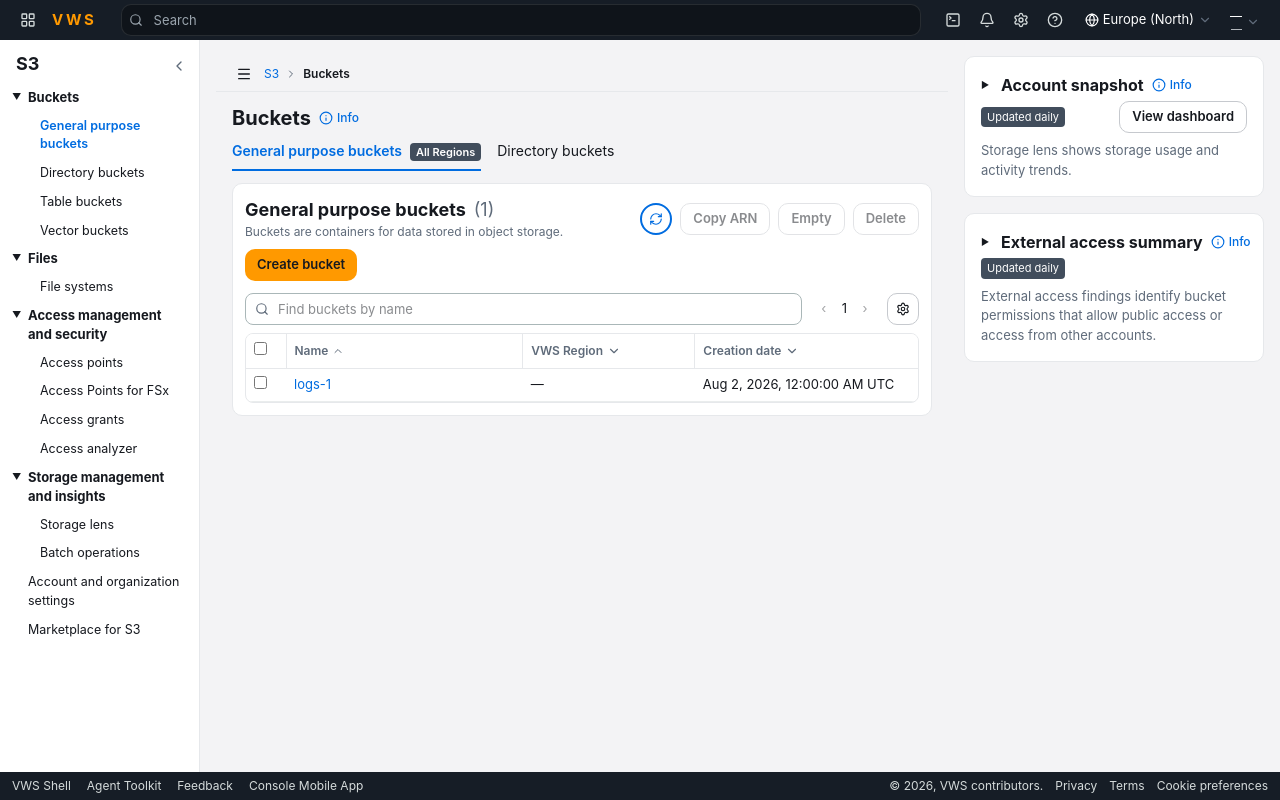
it: BucketsView › deletes the selected bucket through the server action
Click the checkbox named "Select logs-1".
click(260, 382)  # box [254,376,267,389]
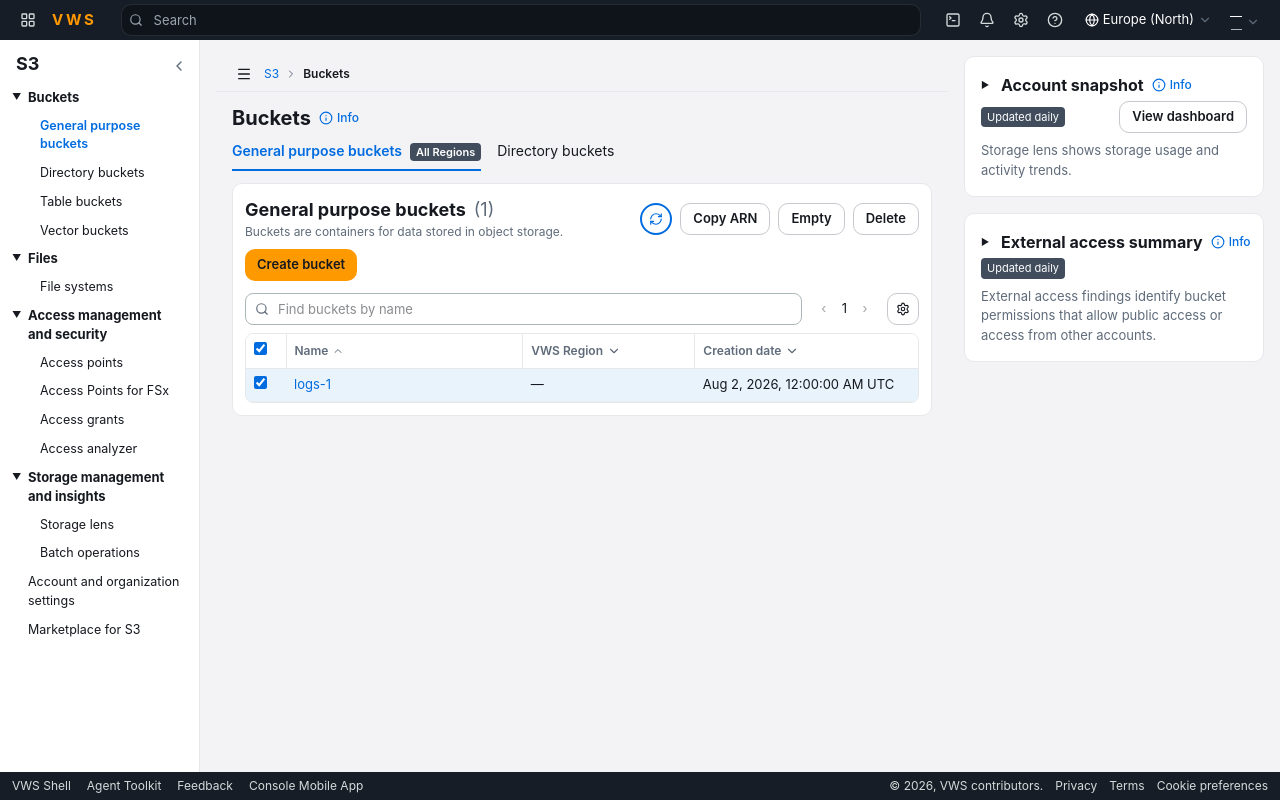
Click the button "Delete".
click(886, 218)  # box [853,202,919,234]
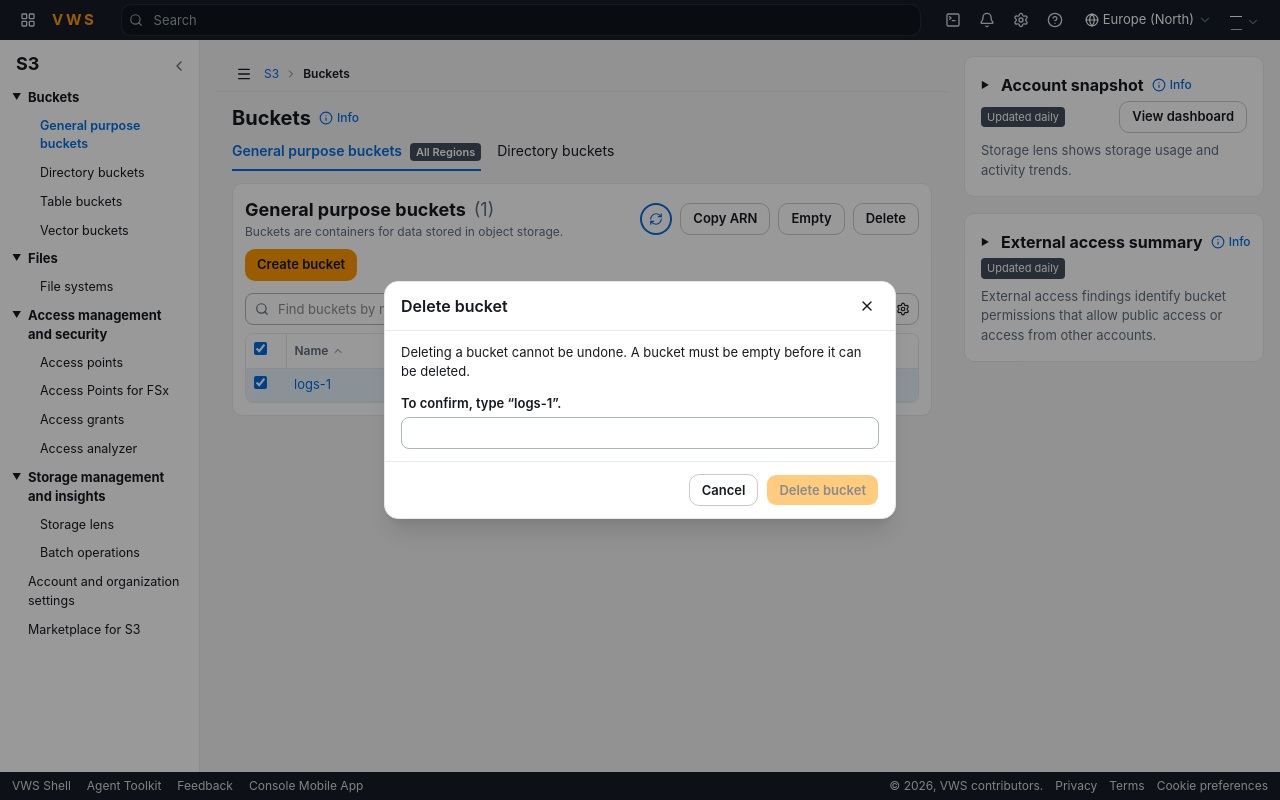
Type "logs-1" into the field.
click(640, 433); type("logs-1")  # box [401,417,879,449]
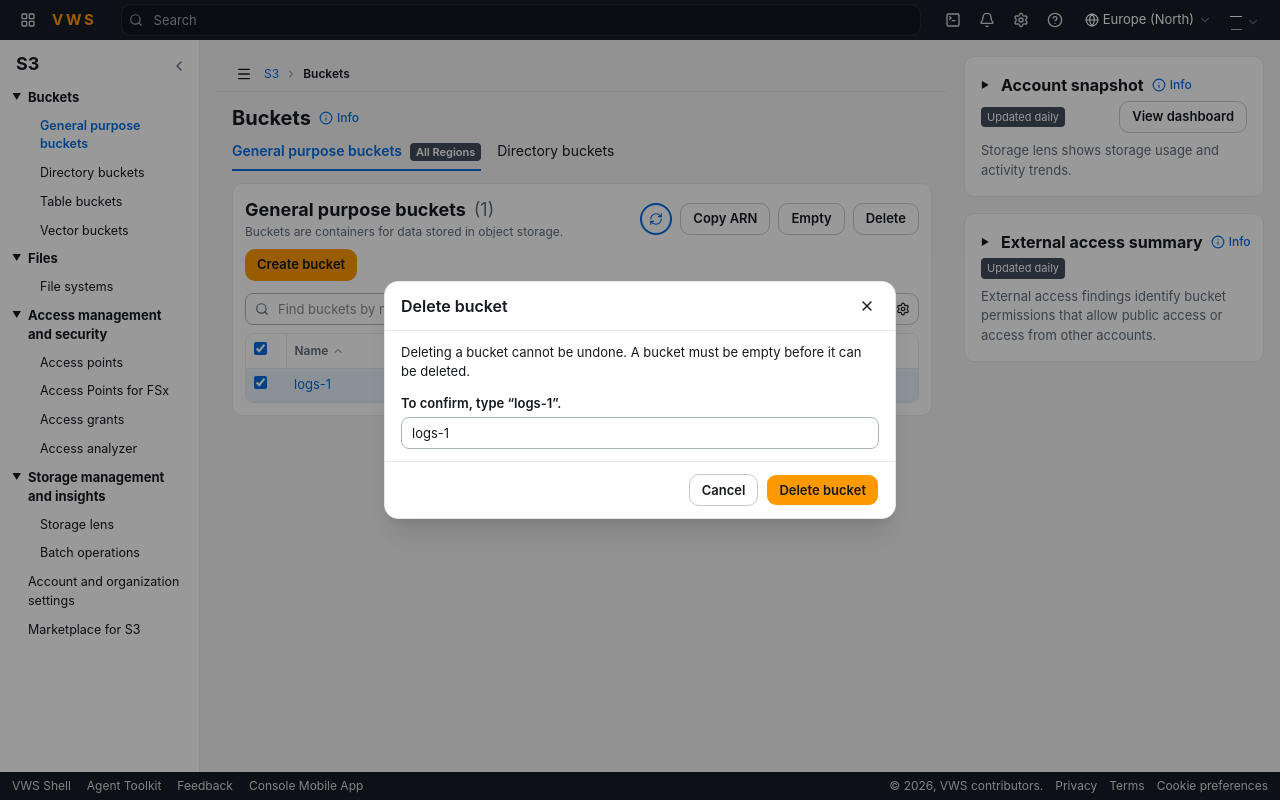
Click the button "Delete bucket".
click(823, 490)  # box [766,474,879,506]
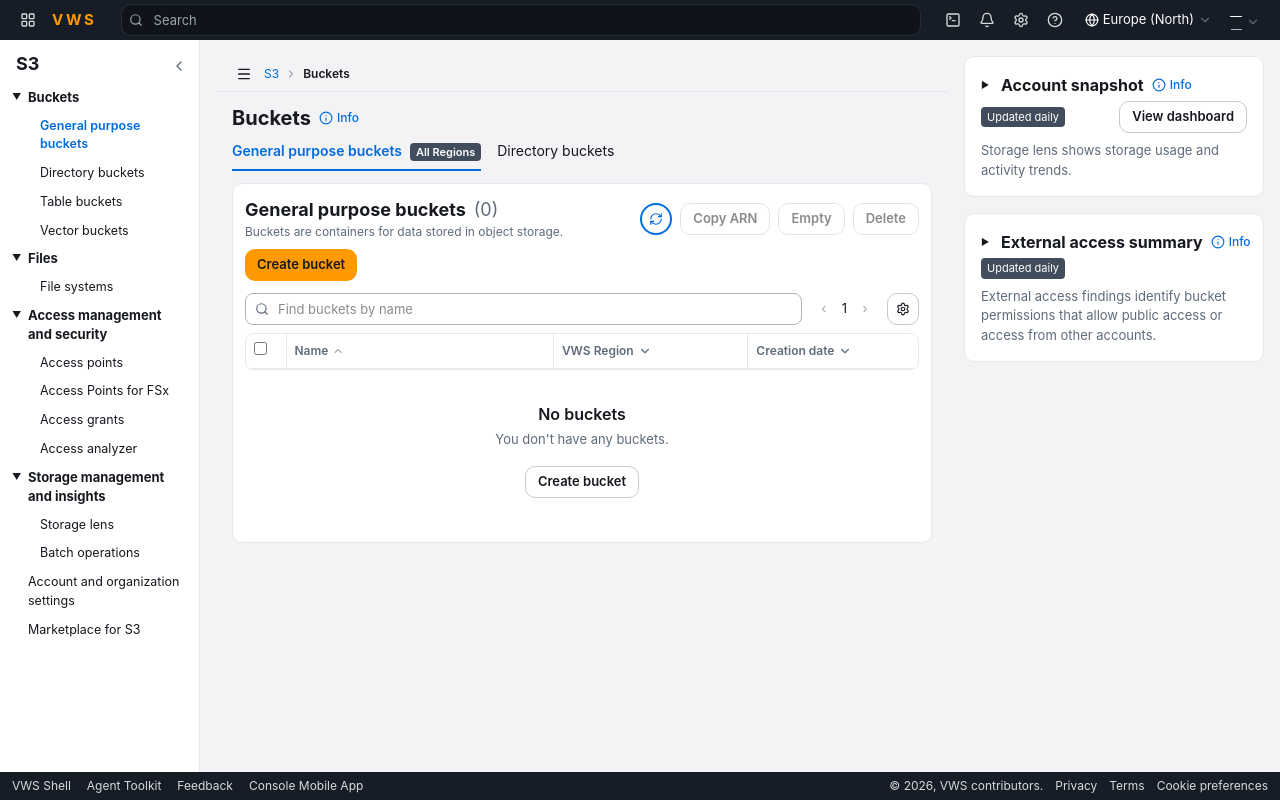
Check: the heading "Delete bucket" is gone
